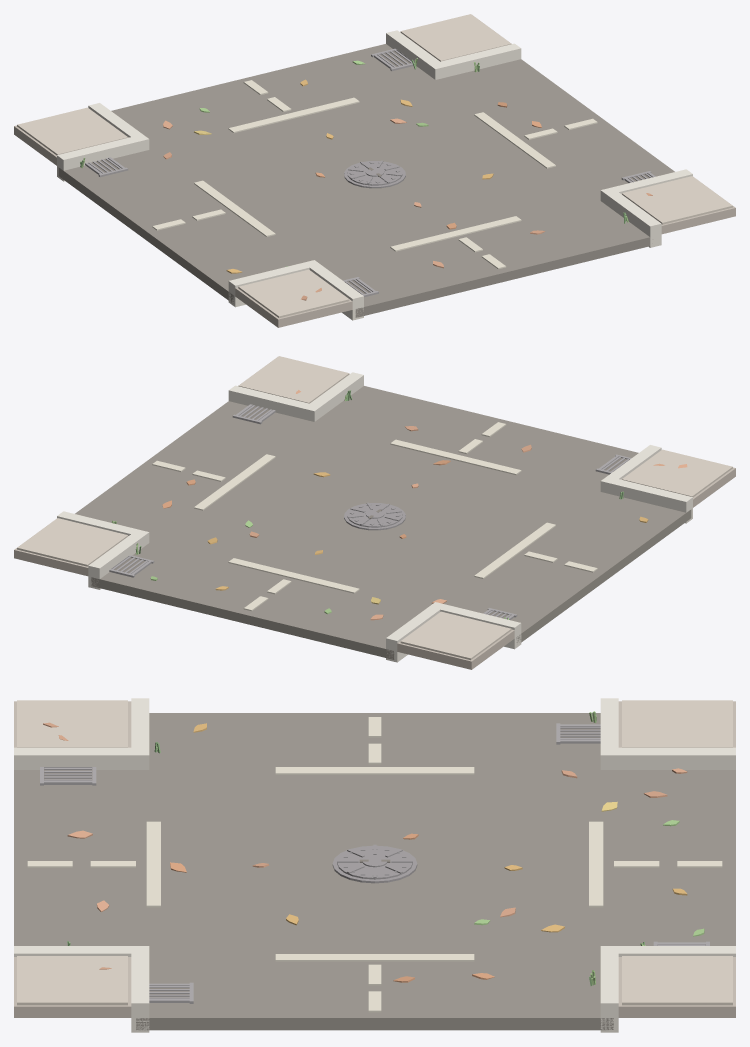
Rendered from Road_X_A.fbx.
3 renders of one model, top to bottom at view 1: azimuth 30°, elevation 25°; view 2: azimuth 150°, elevation 25°; view 3: azimuth 270°, elevation 25°, orthographic. The views are drawn at different scales.
Visible parts, largest first — view 1: Road_X_A, Road_X_A_Veg; view 2: Road_X_A, Road_X_A_Veg; view 3: Road_X_A, Road_X_A_Veg.
Boxes of the visible parts, <box> form: Road_X_A: <box>14,14,735,327</box>; Road_X_A_Veg: <box>80,58,652,300</box>; Road_X_A: <box>14,356,735,669</box>; Road_X_A_Veg: <box>112,390,687,620</box>; Road_X_A: <box>14,698,735,1032</box>; Road_X_A_Veg: <box>43,711,704,985</box>.
Bounding box in the file's own units: 8 × 0.3717 × 8.
